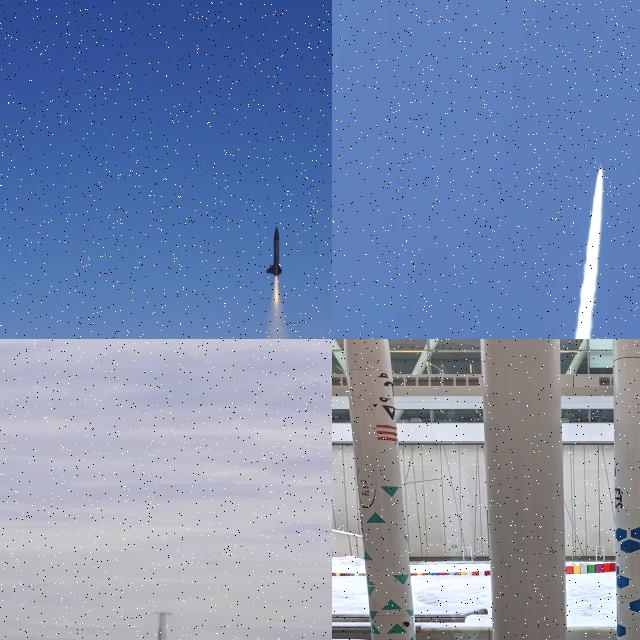Rocket: (344, 339, 417, 640), (612, 339, 640, 640), (266, 226, 284, 277), (157, 628, 162, 640), (599, 160, 603, 170)
